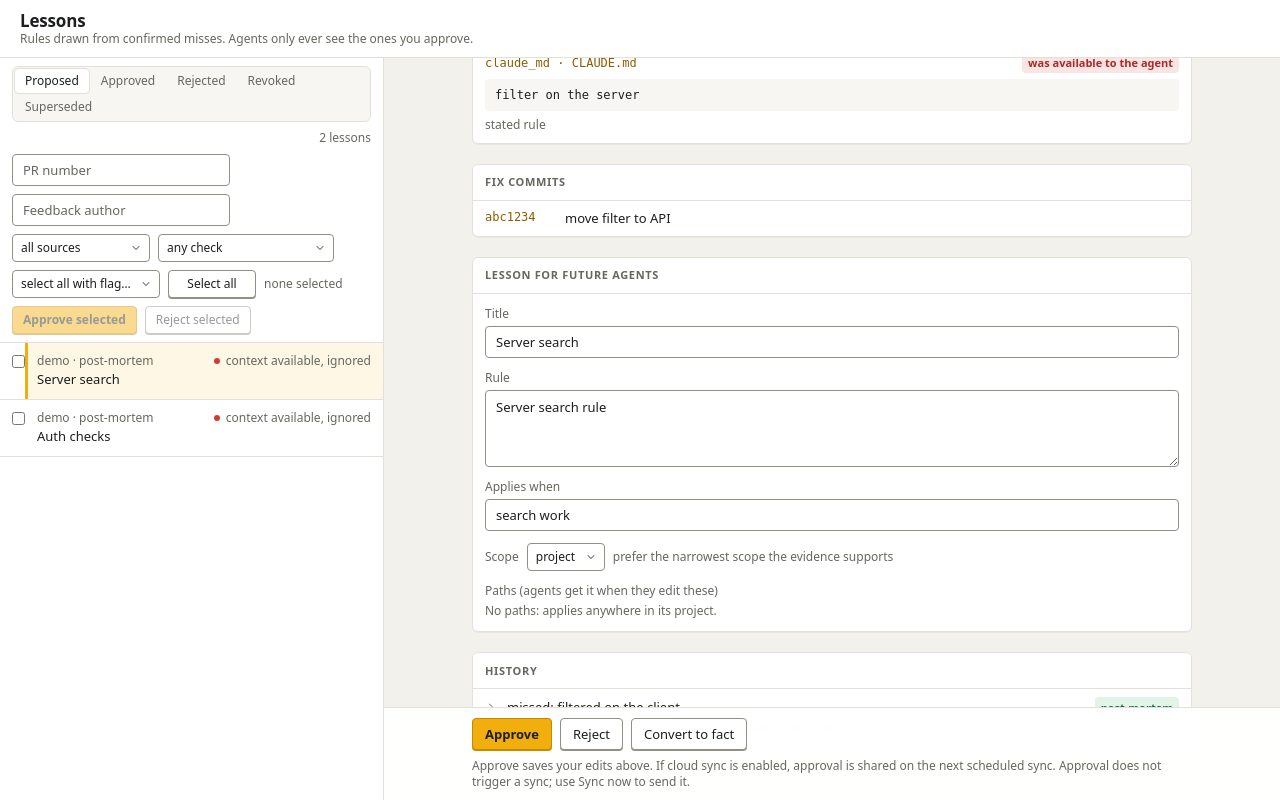
Test case: approve sends edited fields with the status
(page scrolled)
Replace the text in the text box named "rule" with "Always filter on the server" at (832, 429), box [485,390,1179,468]
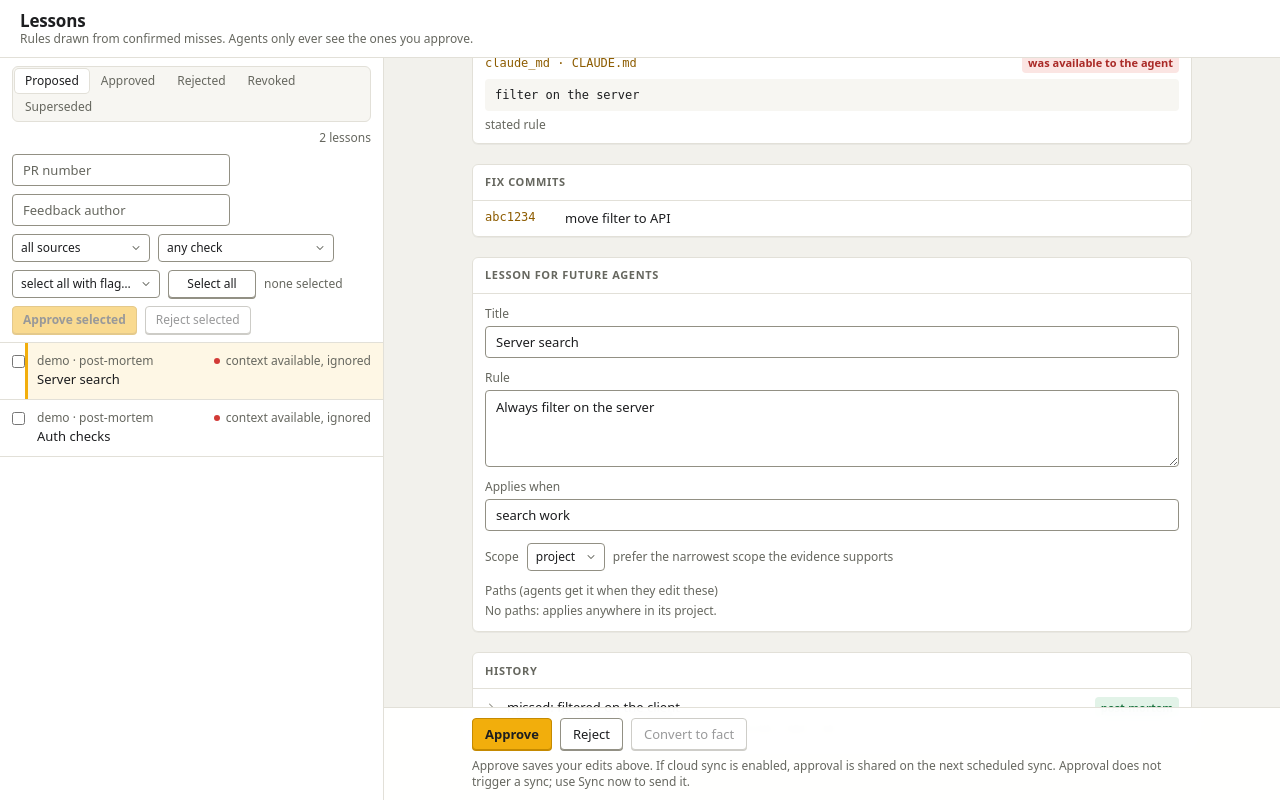
Select "global" in the dropdown named "scope" at (566, 557), box [527,543,605,571]
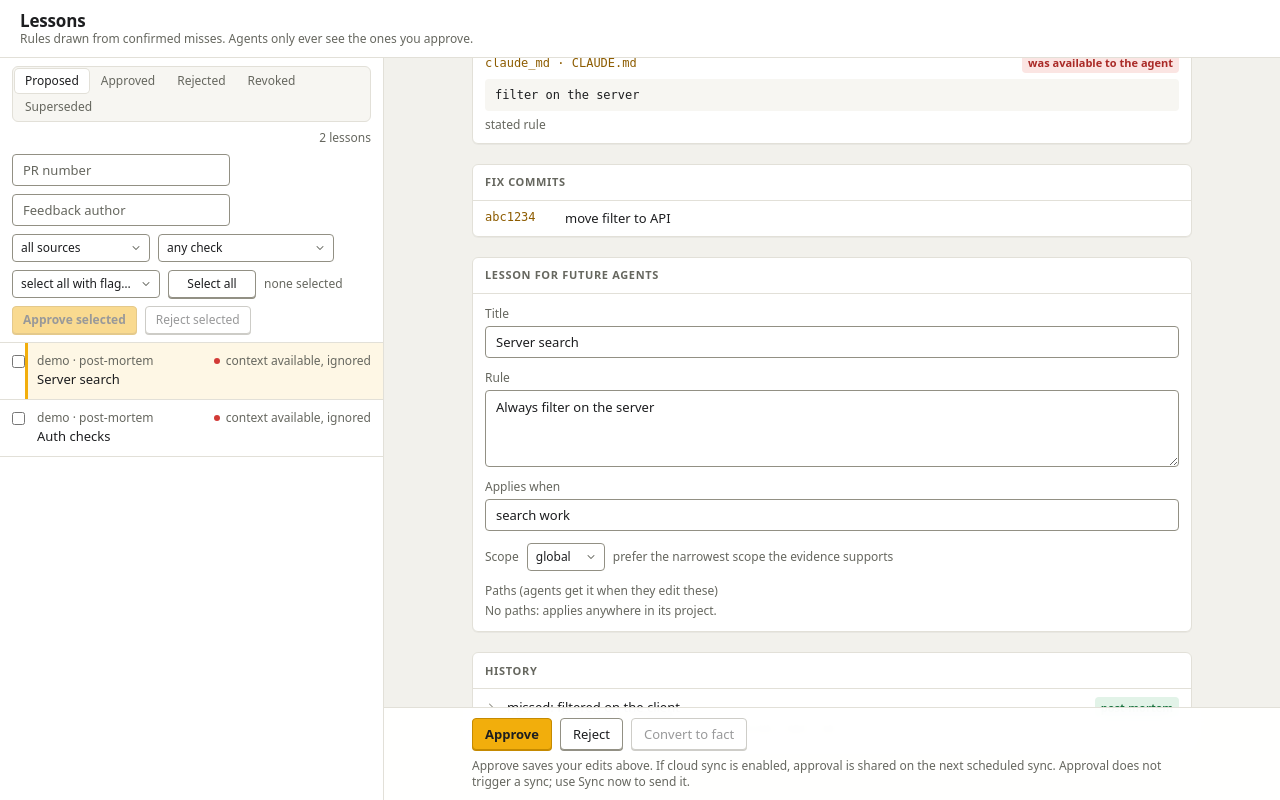
Click the button "Approve" at (512, 734), box [472,718,552,750]
(page scrolled)
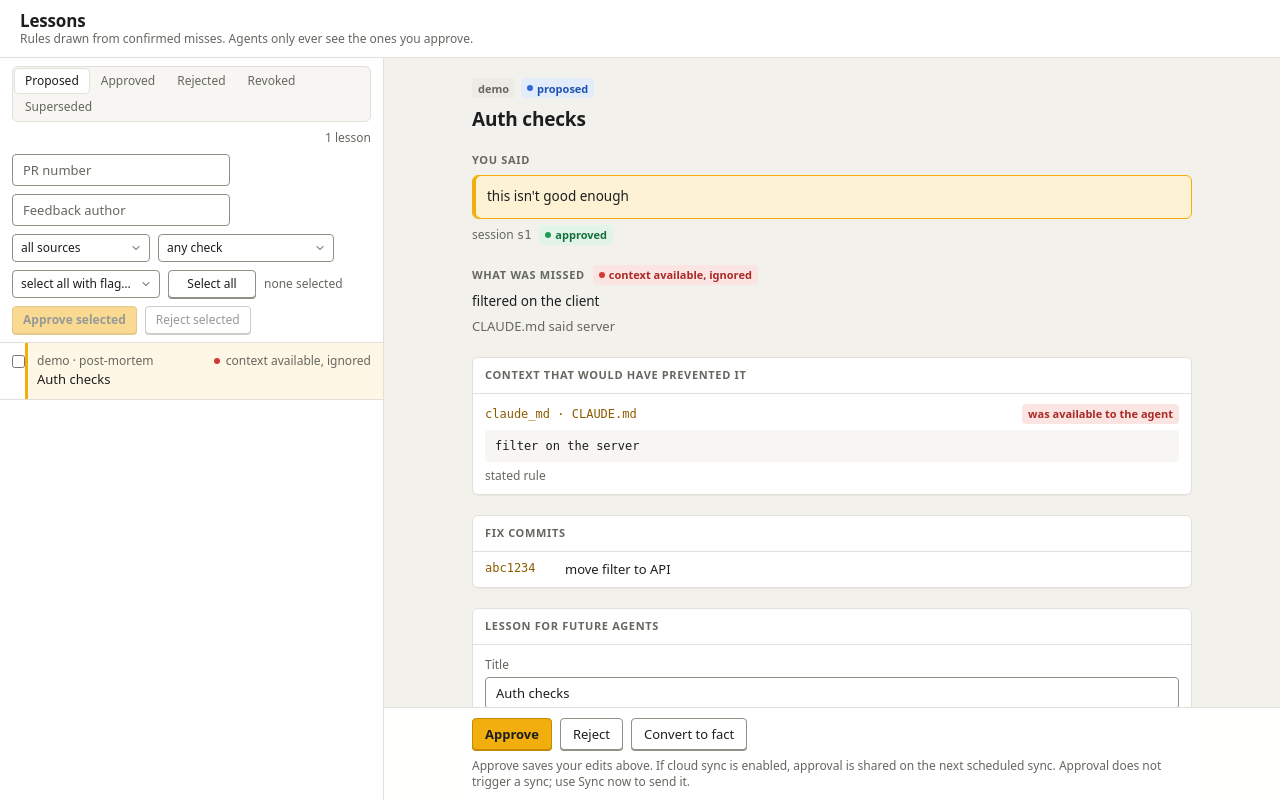
Check: the heading "Auth checks" is shown, box [472,106,586,132]
